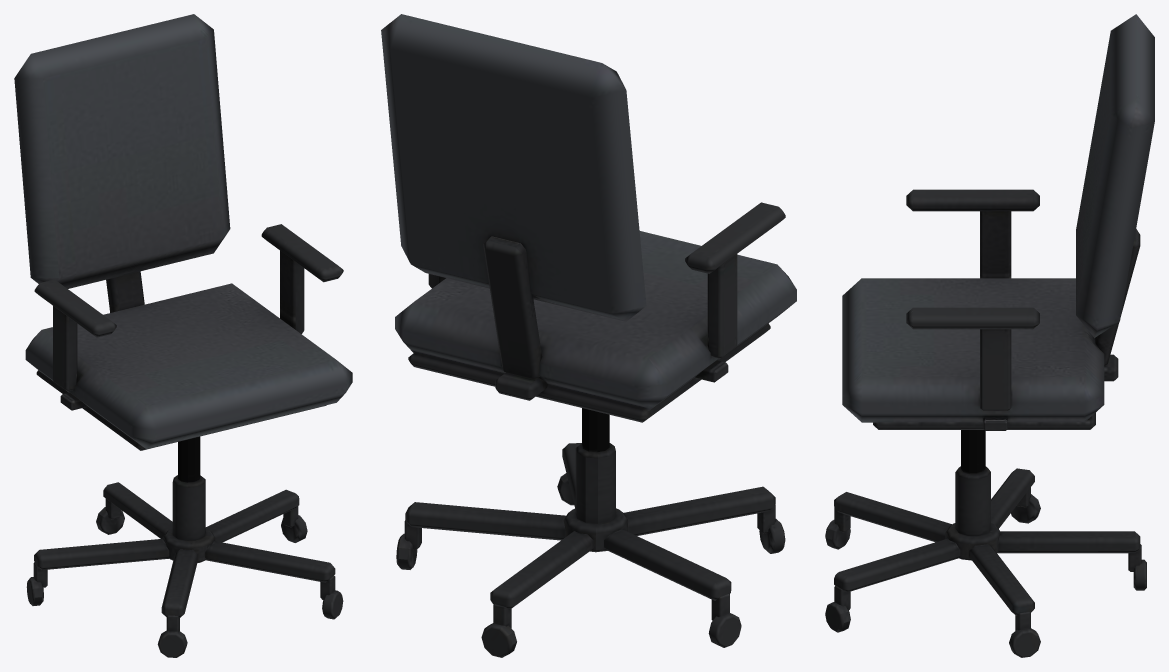
The model's file is chair.glb.
3 views of the same model, side by side, from view 1: azimuth 30°, elevation 25°; view 2: azimuth 150°, elevation 25°; view 3: azimuth 270°, elevation 25° (orthographic). The views are drawn at different scales.
Visible parts, largest first — view 1: chair; view 2: chair; view 3: chair.
Boxes of the visible parts, x1,y1,x2,y2 form: chair: (14, 14, 352, 657); chair: (381, 14, 796, 657); chair: (825, 14, 1154, 657).
Size of the model in its own units: 0.6075 by 1.05 by 0.5916.
3 materials, 3 textured.
